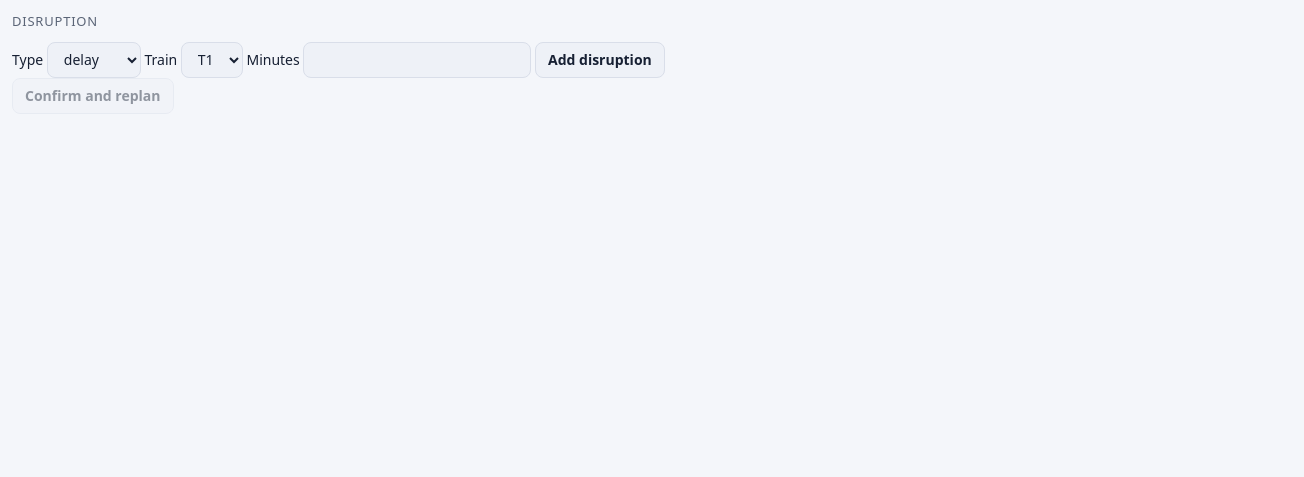
DisruptPanel › does nothing until Confirm, then shows plan and reasons
Type "25" into the field labelled "Minutes" at [417, 60], box [303,42,531,78]
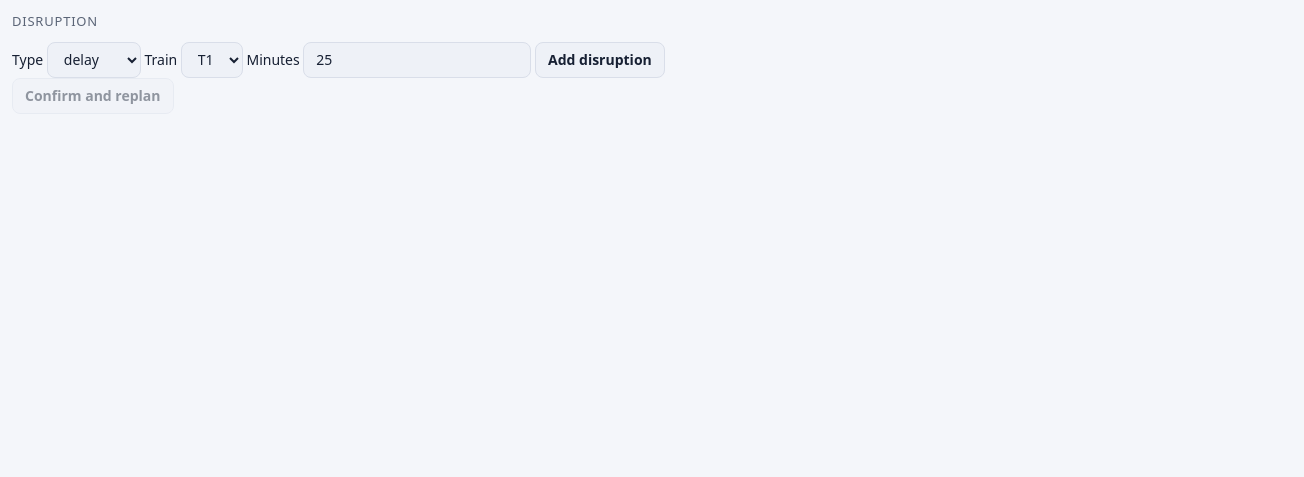
Click the button "Add disruption" at [600, 60], box [535,42,665,78]
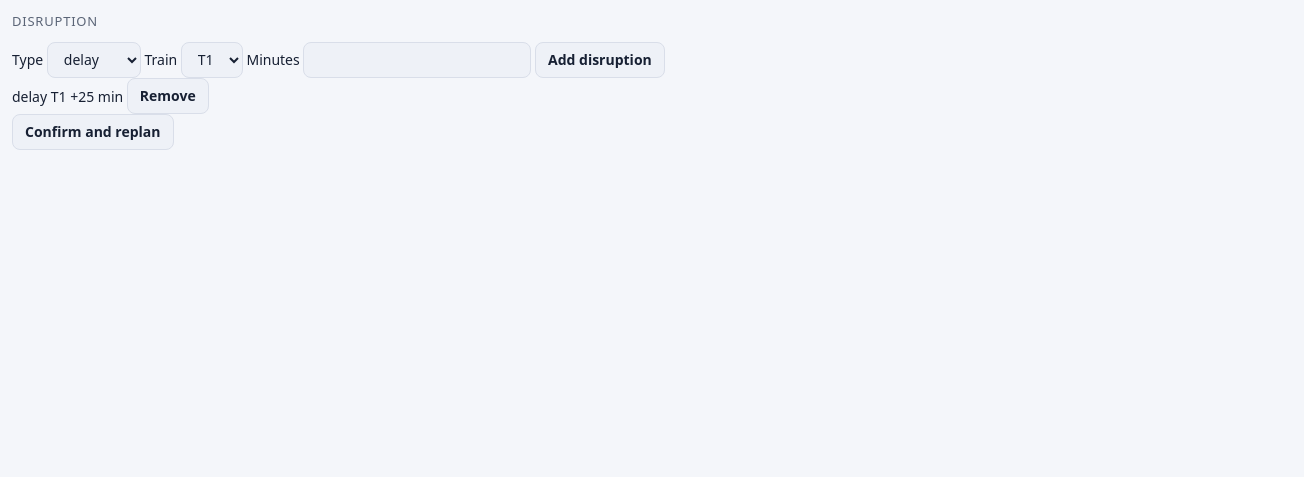
Result: the list with test id "proposals" shows "delay T1 +25 min" at [12,86,123,105]
Click the button "Confirm and replan" at [93, 132], box [12,114,174,150]
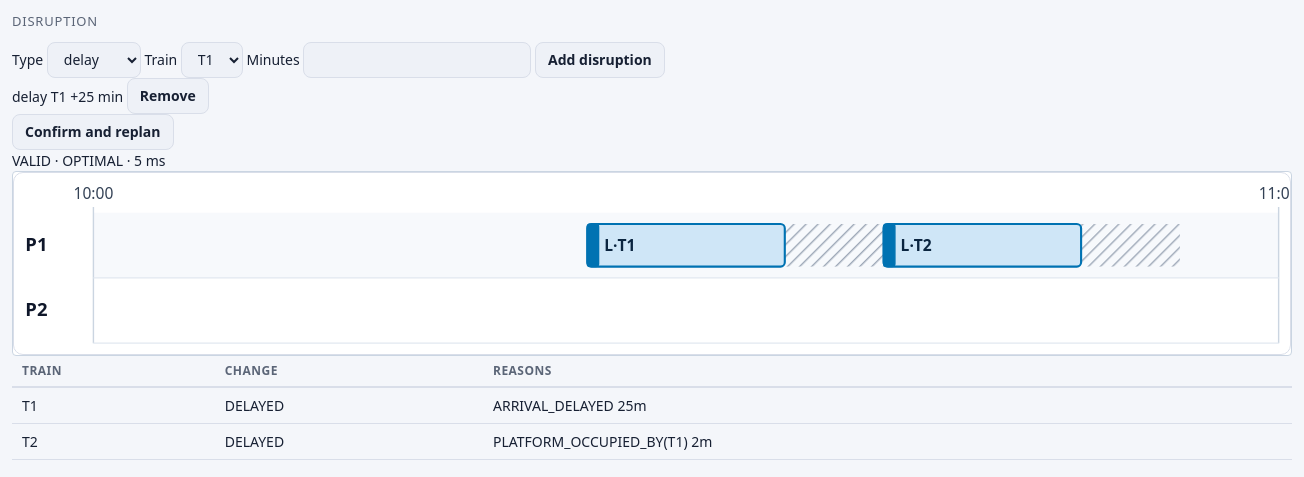
Result: the text with test id "result-status" shows "VALID" at [12,150,51,170]
Result: the table with test id "diff" shows "ARRIVAL_DELAYED" at [493,396,647,415]
Result: the table with test id "diff" shows "PLATFORM_OCCUPIED_BY(T1)" at [493,432,712,451]
